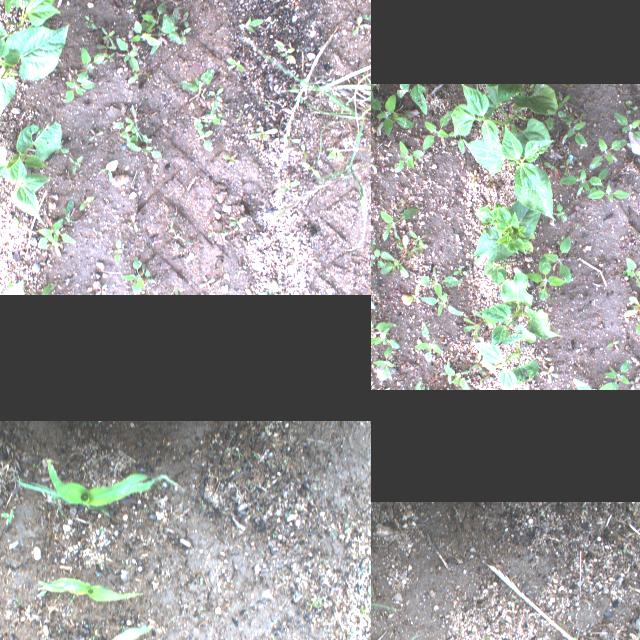crop: (464, 126, 554, 220), (17, 458, 154, 518), (450, 84, 550, 156), (0, 25, 67, 123), (0, 121, 61, 225), (479, 270, 563, 344), (470, 323, 537, 390), (473, 202, 539, 262), (0, 0, 59, 50), (37, 576, 141, 604), (484, 84, 556, 114), (474, 256, 518, 286), (0, 279, 23, 295)
weed: (245, 40, 371, 187), (273, 135, 371, 220), (280, 29, 338, 163), (312, 157, 366, 251), (281, 58, 371, 92), (339, 63, 371, 134), (371, 92, 414, 135), (112, 104, 152, 148), (526, 258, 564, 300), (418, 284, 464, 316), (132, 1, 166, 42), (586, 138, 628, 170), (380, 206, 416, 240), (413, 322, 443, 362), (420, 110, 450, 150), (544, 240, 572, 282), (556, 111, 588, 147), (76, 44, 104, 82), (176, 68, 214, 95), (392, 140, 422, 172), (122, 256, 146, 294), (129, 18, 161, 46), (418, 266, 462, 286), (398, 84, 427, 114), (60, 80, 96, 104), (371, 345, 395, 381), (613, 112, 640, 143), (116, 38, 140, 72), (603, 360, 630, 390), (379, 250, 407, 278), (440, 363, 469, 390), (37, 218, 63, 248), (586, 185, 630, 202), (315, 83, 371, 96), (558, 170, 598, 188), (192, 117, 212, 151), (620, 256, 640, 290), (126, 141, 162, 159), (160, 13, 180, 45), (628, 124, 640, 176), (572, 378, 623, 390), (273, 38, 295, 64), (149, 25, 167, 55), (461, 318, 483, 340), (36, 238, 60, 258), (588, 167, 608, 191), (199, 106, 225, 124), (248, 126, 278, 140), (371, 331, 399, 346), (100, 160, 118, 183), (301, 160, 321, 180), (350, 16, 370, 36), (399, 379, 435, 390), (371, 319, 392, 337), (243, 16, 263, 32), (100, 27, 116, 47), (396, 232, 410, 254), (208, 88, 222, 109), (228, 216, 246, 232), (408, 230, 424, 248), (61, 199, 74, 221), (226, 58, 246, 72), (95, 42, 115, 56), (556, 200, 568, 222), (54, 230, 74, 243), (222, 151, 238, 167), (78, 196, 94, 212), (542, 366, 558, 382), (198, 276, 216, 290), (126, 70, 144, 84), (68, 156, 82, 174), (559, 157, 573, 175), (371, 248, 383, 267), (222, 224, 236, 240), (114, 238, 122, 266), (624, 98, 638, 114), (541, 159, 557, 173), (534, 352, 550, 366), (627, 294, 640, 311), (277, 182, 299, 192), (279, 136, 301, 146), (326, 148, 344, 160), (406, 245, 422, 258), (408, 284, 418, 304), (55, 140, 69, 154), (262, 282, 278, 294), (290, 87, 302, 103), (144, 269, 156, 285), (557, 92, 569, 108), (451, 264, 467, 276), (128, 215, 138, 233), (84, 15, 96, 30), (180, 27, 190, 45), (1, 510, 13, 524), (178, 11, 188, 27), (471, 355, 481, 371), (570, 205, 582, 218), (630, 375, 640, 390), (170, 6, 178, 24), (94, 284, 108, 294), (88, 130, 102, 140), (42, 285, 56, 295), (487, 177, 498, 189), (102, 52, 115, 62), (300, 143, 308, 159), (371, 84, 378, 102), (623, 232, 635, 242), (572, 112, 584, 122), (481, 372, 493, 382), (606, 340, 620, 348), (635, 314, 640, 336), (622, 310, 640, 316), (0, 114, 6, 131), (206, 230, 218, 238), (359, 12, 371, 20), (68, 592, 76, 604), (128, 0, 138, 9), (371, 155, 376, 173), (414, 203, 422, 214), (561, 84, 575, 90), (472, 170, 478, 184), (457, 138, 463, 152), (408, 315, 416, 325), (245, 236, 251, 248), (475, 374, 481, 386), (380, 161, 386, 173), (30, 462, 38, 470), (568, 106, 574, 116), (360, 74, 366, 82), (172, 287, 178, 295), (574, 222, 580, 230), (371, 191, 375, 203), (15, 601, 22, 607), (100, 524, 104, 534), (443, 384, 449, 390), (448, 130, 454, 136), (230, 431, 236, 437), (30, 440, 36, 446), (156, 484, 162, 490), (156, 552, 162, 558), (124, 564, 130, 570), (56, 628, 62, 634), (94, 632, 100, 638), (364, 97, 371, 101), (37, 504, 44, 508), (96, 430, 100, 436), (60, 440, 66, 444), (246, 478, 250, 484), (144, 508, 150, 512), (200, 606, 204, 612), (80, 422, 86, 426), (93, 421, 99, 425), (65, 430, 69, 434), (236, 468, 240, 472), (88, 624, 94, 626), (88, 422, 90, 426)
